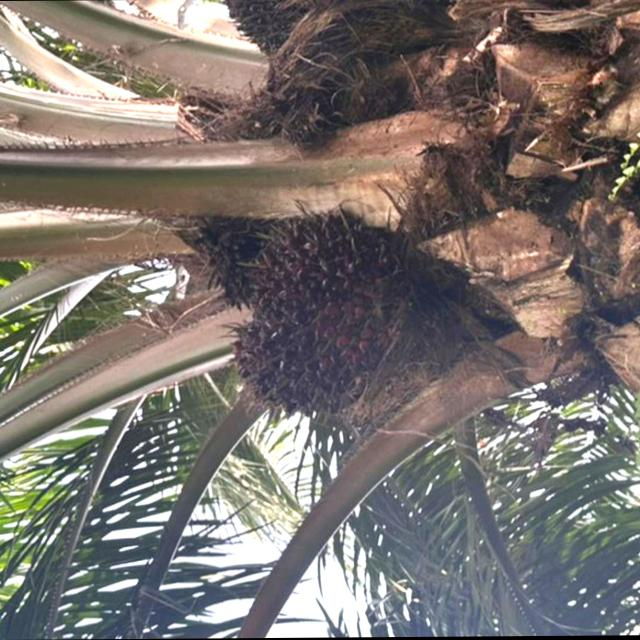ripe: (205, 187, 448, 438)
